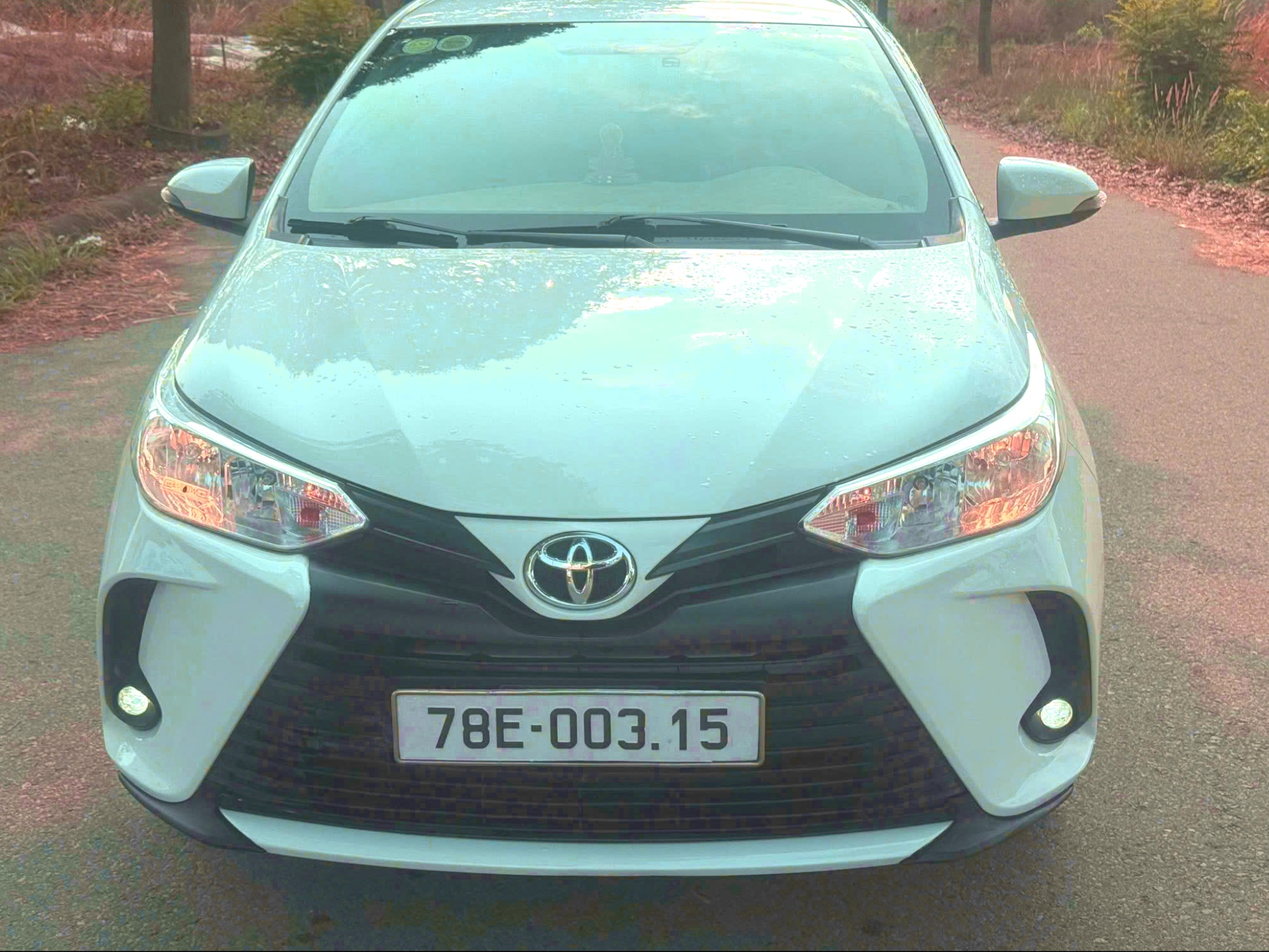Bien-so: (386, 682, 738, 763)
